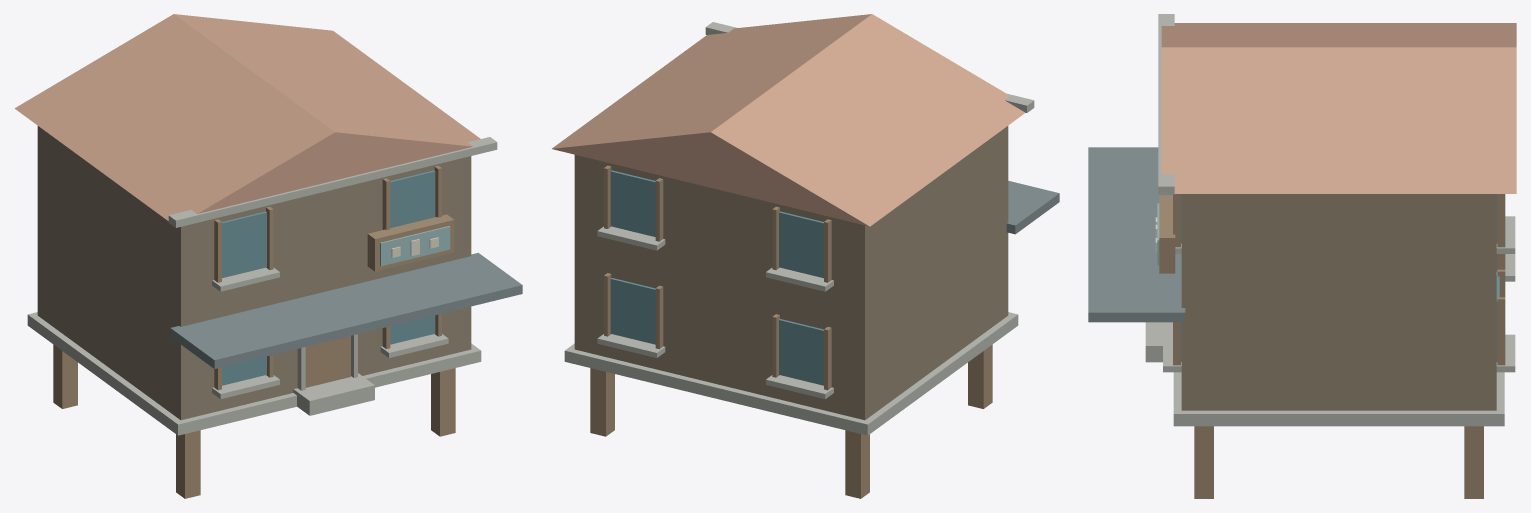
File: stilt-1.glb
3 views of the same model, side by side, from view 1: azimuth 30°, elevation 25°; view 2: azimuth 150°, elevation 25°; view 3: azimuth 270°, elevation 25° (orthographic). The views are drawn at different scales.
Bounding box in the file's own units: 4.54 × 4.65 × 4.76.
